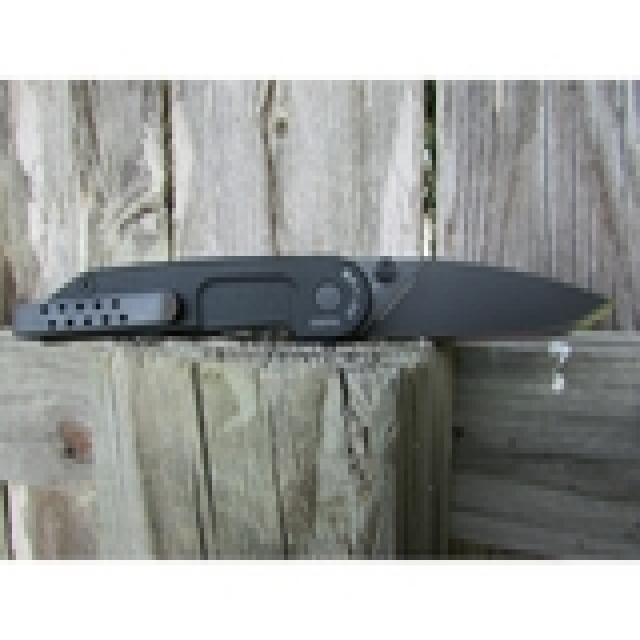Knife: (28, 230, 615, 374)
